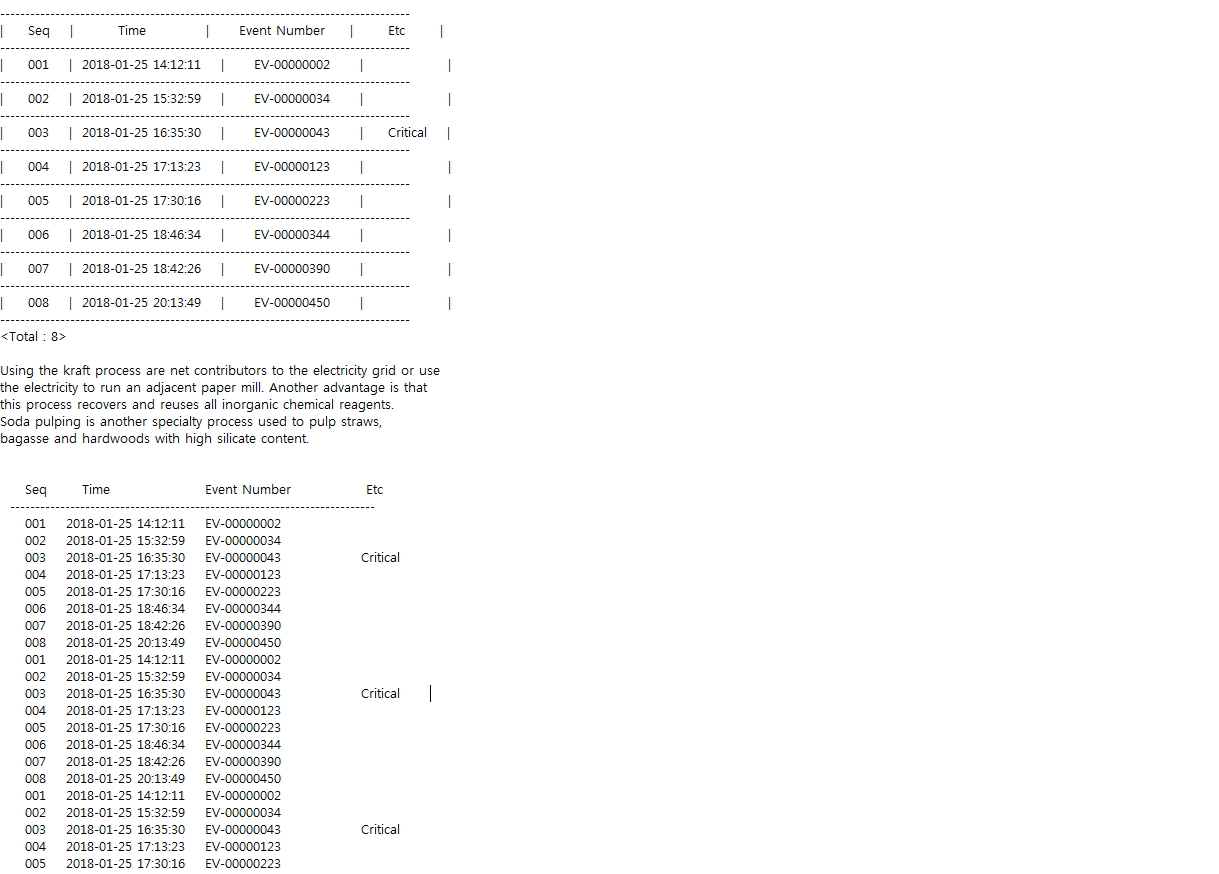table: (5, 479, 437, 874), (1, 2, 452, 326)
